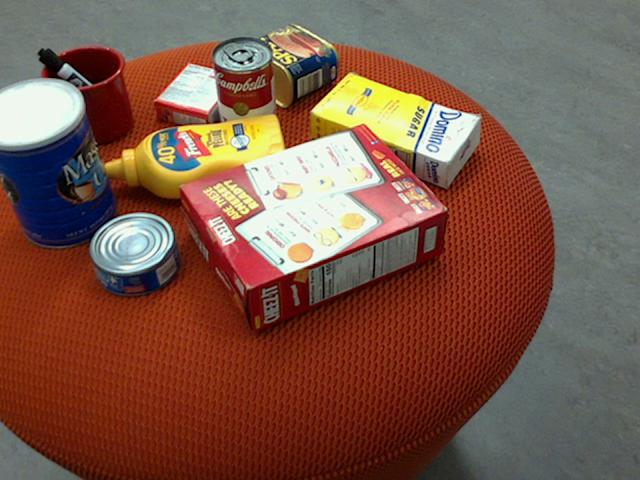cracker_box: (179, 122, 448, 330)
gelatin_box: (153, 62, 242, 130)
large_marker: (37, 48, 129, 126)
master_chef_can: (0, 78, 117, 249)
mug: (28, 46, 133, 144)
mustard_bottle: (105, 114, 288, 198)
potted_meat_can: (236, 25, 339, 108)
sugar_box: (309, 73, 483, 186)
tomato_soup_can: (211, 35, 276, 143)
tuna_fish_can: (88, 213, 181, 297)
